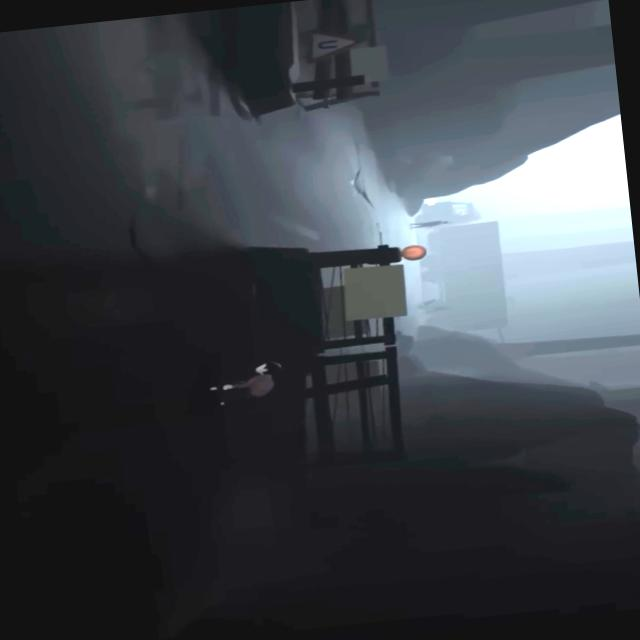boy: (202, 360, 284, 408)
